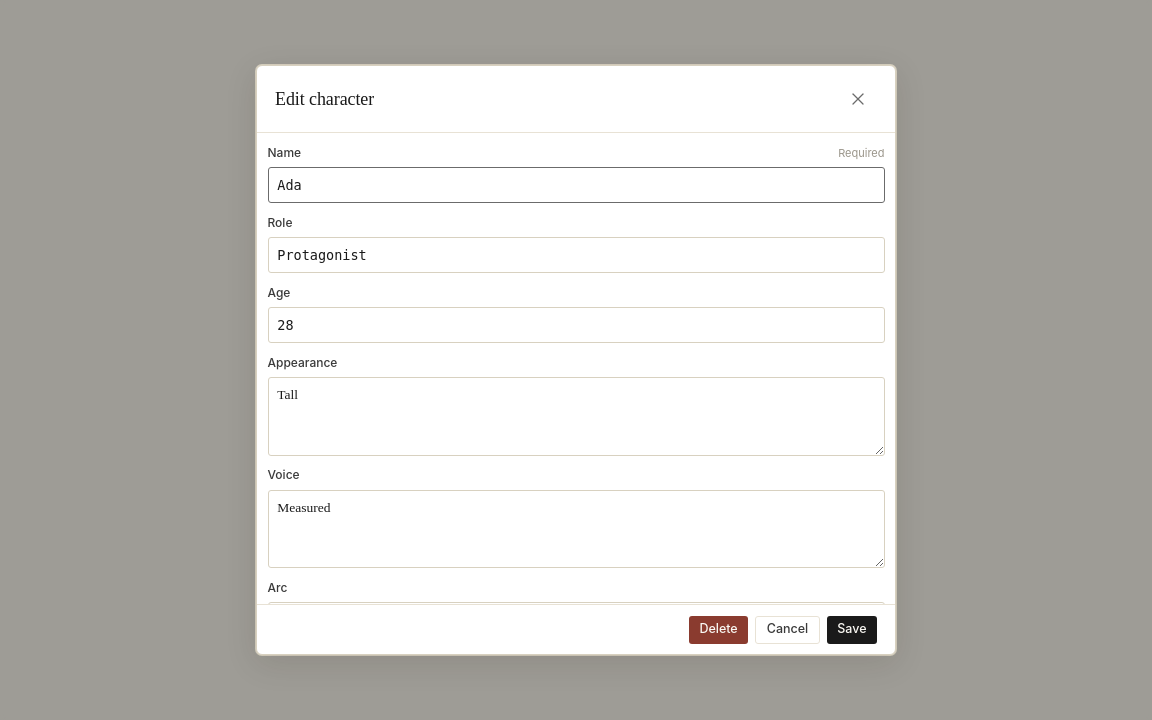
Test: CharacterSheet (F19) › Delete failure keeps the confirm dialog open and shows the error
The width and height of the screenshot is (1152, 720).
Check: the field labelled "Name Required" holds "Ada", box left=268, top=167, right=884, bottom=203
Click the button "Delete" at (719, 630), box left=689, top=616, right=748, bottom=644
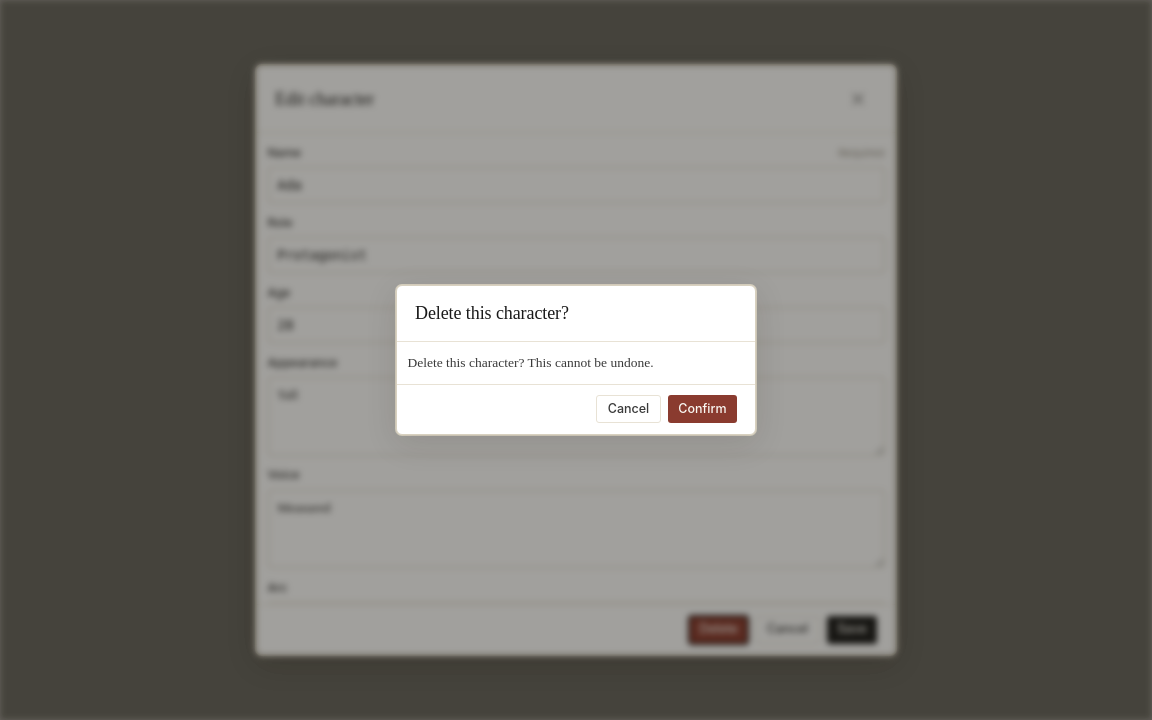
Check: the dialog is shown, box left=396, top=285, right=756, bottom=435
Click the button "Confirm" at (702, 410), box left=668, top=396, right=737, bottom=424
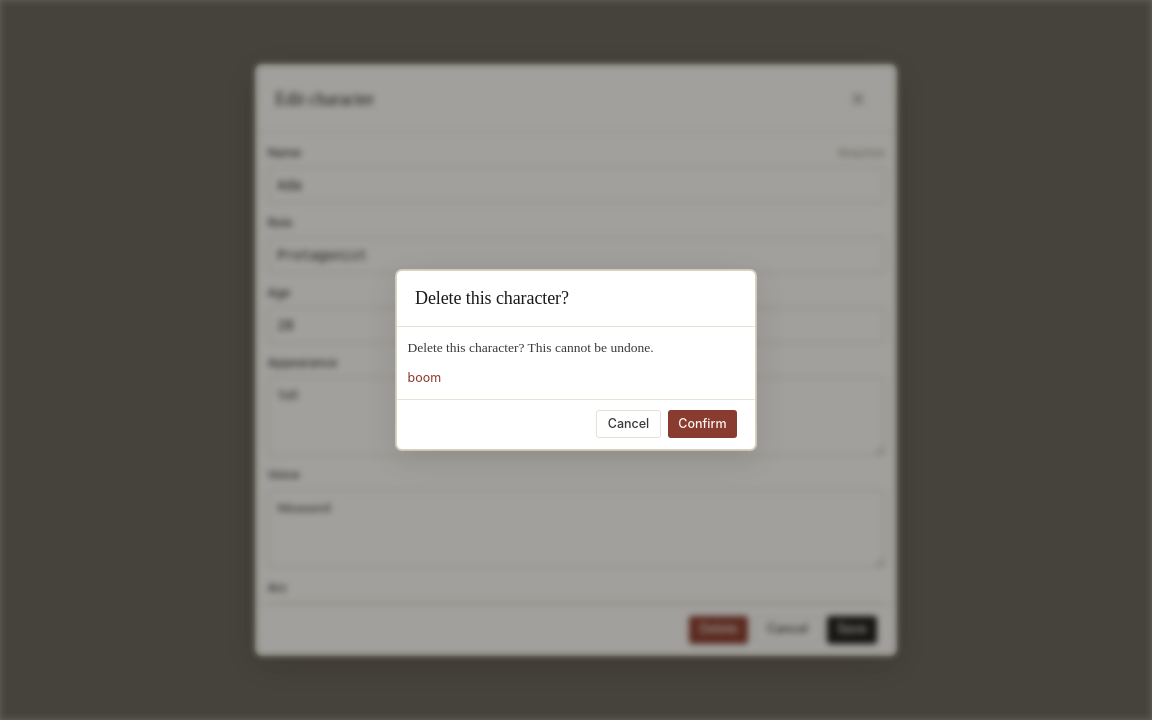
Check: the dialog is shown, box left=396, top=270, right=756, bottom=450
Check: the message reads "boom", box left=408, top=370, right=441, bottom=385
